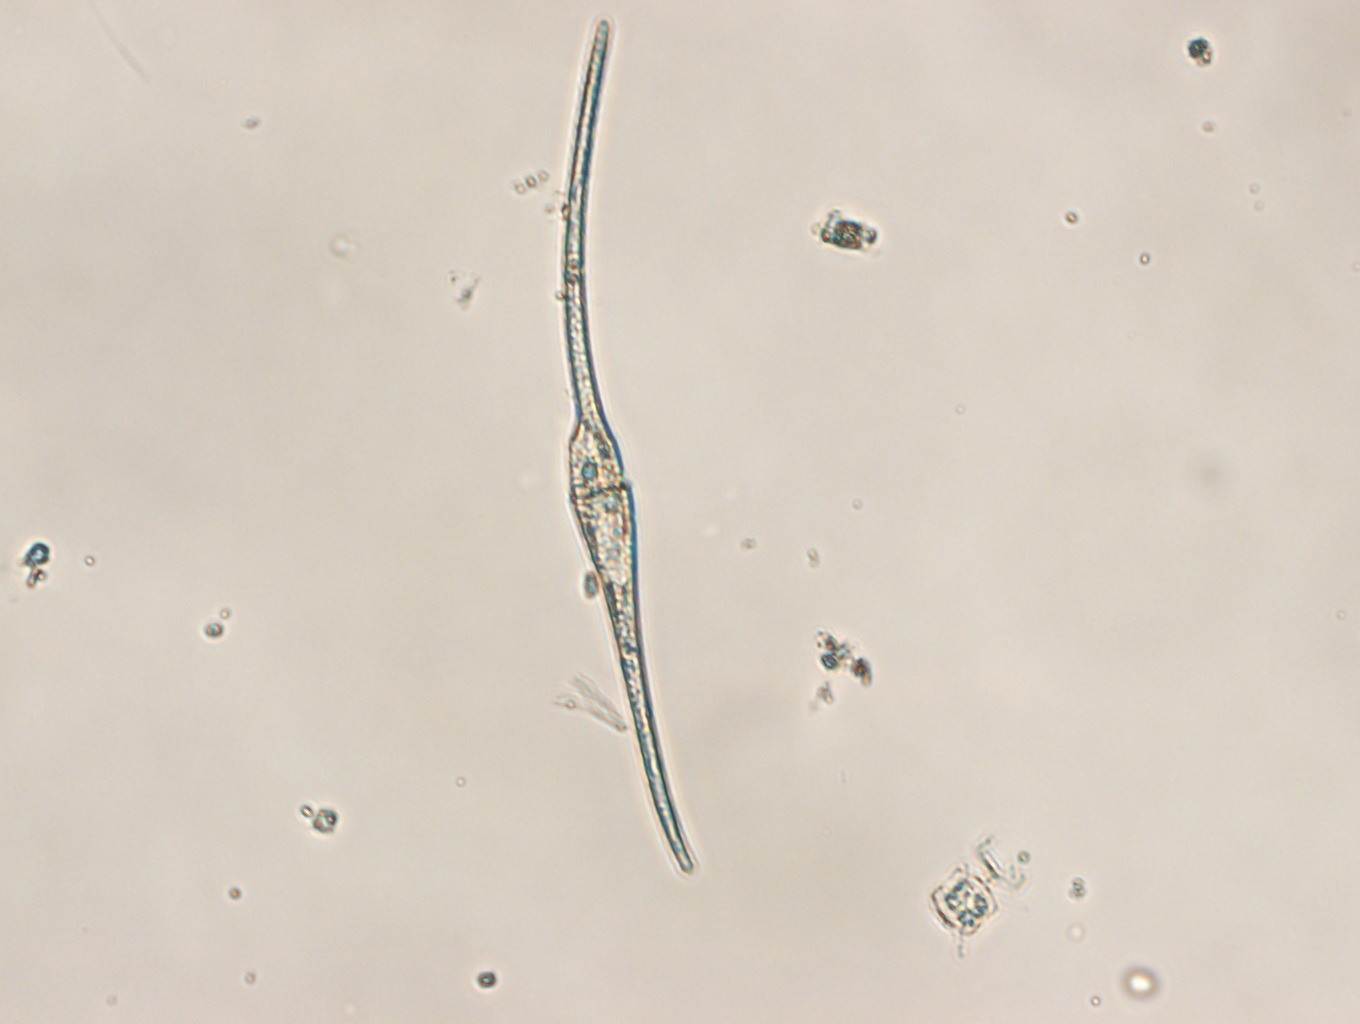ceratium fusus: (559, 15, 698, 879)
